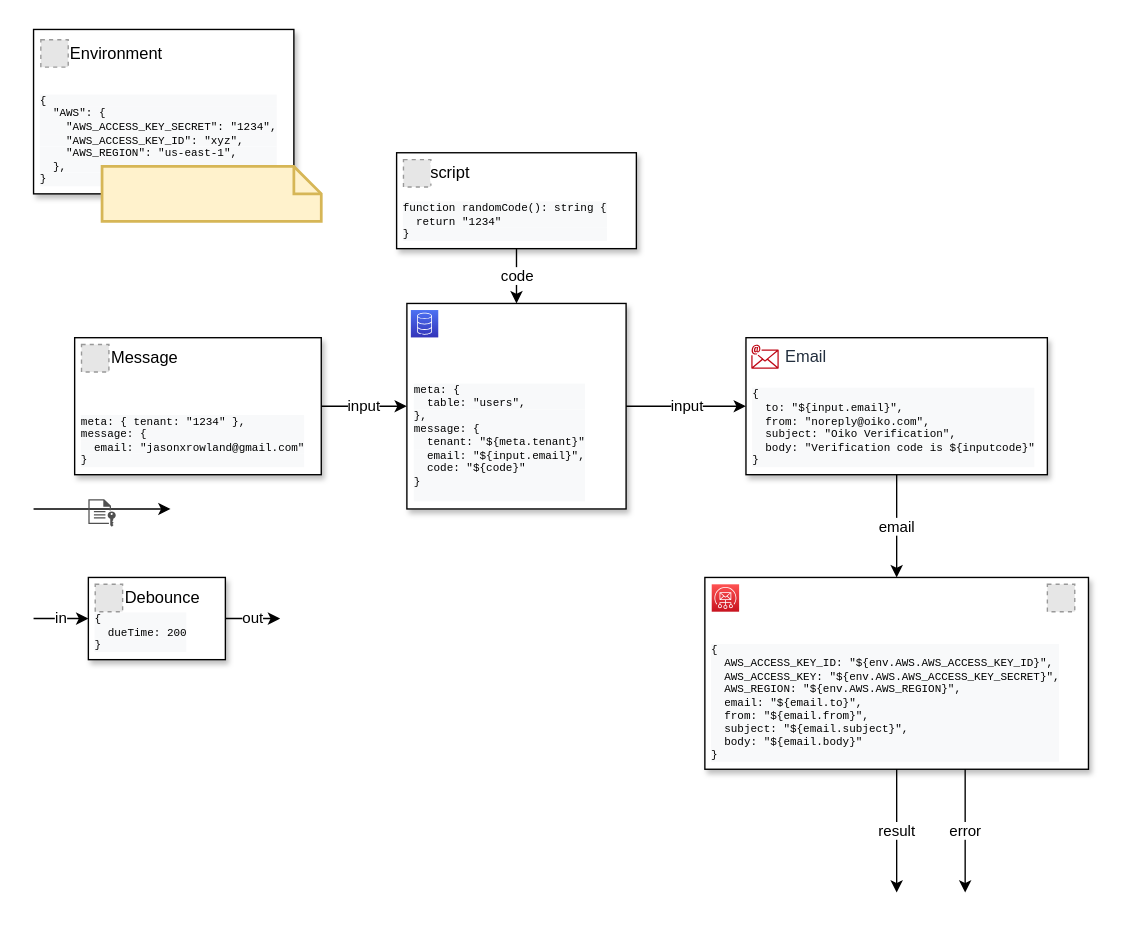
The diagram is 1121 pixels wide and 927 high, and some of its shapes have lost their labels. Grey dashed boxes stand in for pictures. Here are the shapes that lost their labels. From the top down, the centre of each, then its label:
At point 211,193: "*_SECRET are r edacted".
At point 423,323: "KV Storage".
At point 724,597: "AWS Email".
